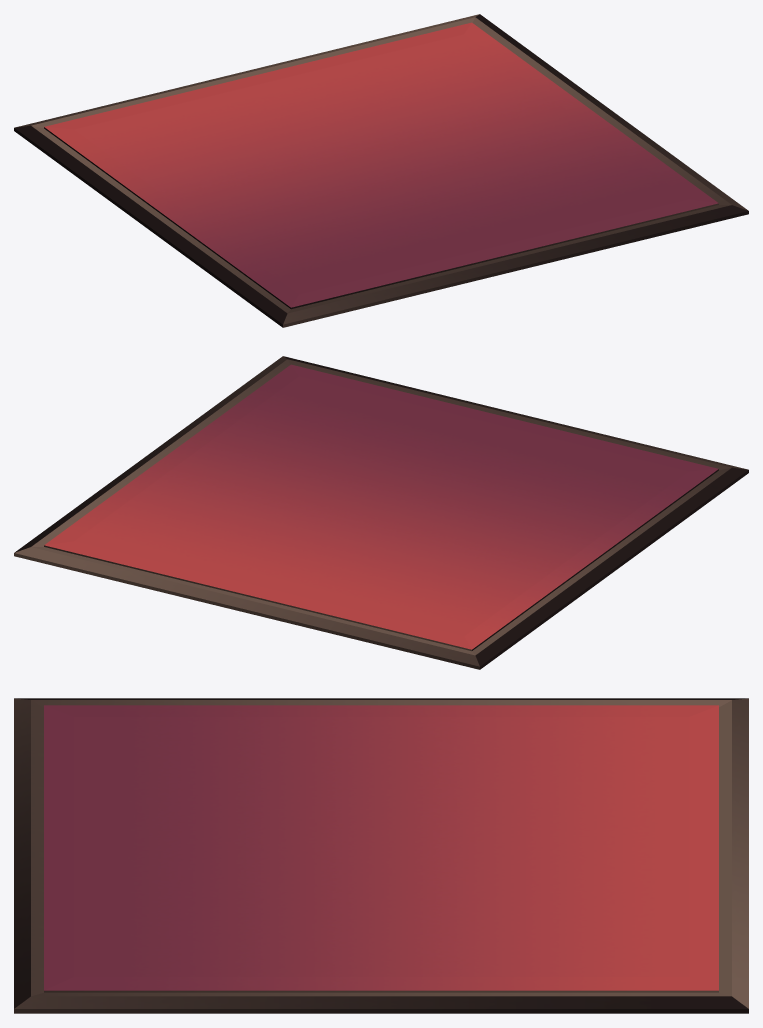
The model's file is big pressure plate 1.fbx.
3 views of the same model, one above another, from view 1: azimuth 30°, elevation 25°; view 2: azimuth 150°, elevation 25°; view 3: azimuth 270°, elevation 25° (orthographic). The views are drawn at different scales.
Visible parts, largest first — view 1: Box001; view 2: Box001; view 3: Box001.
Part boxes in pixels (left/top/right/bottom): Box001: left=14, top=14, right=748, bottom=327; Box001: left=14, top=356, right=748, bottom=669; Box001: left=14, top=698, right=748, bottom=1013.
Size of the model in its own units: 1501 by 25.23 by 1501.
